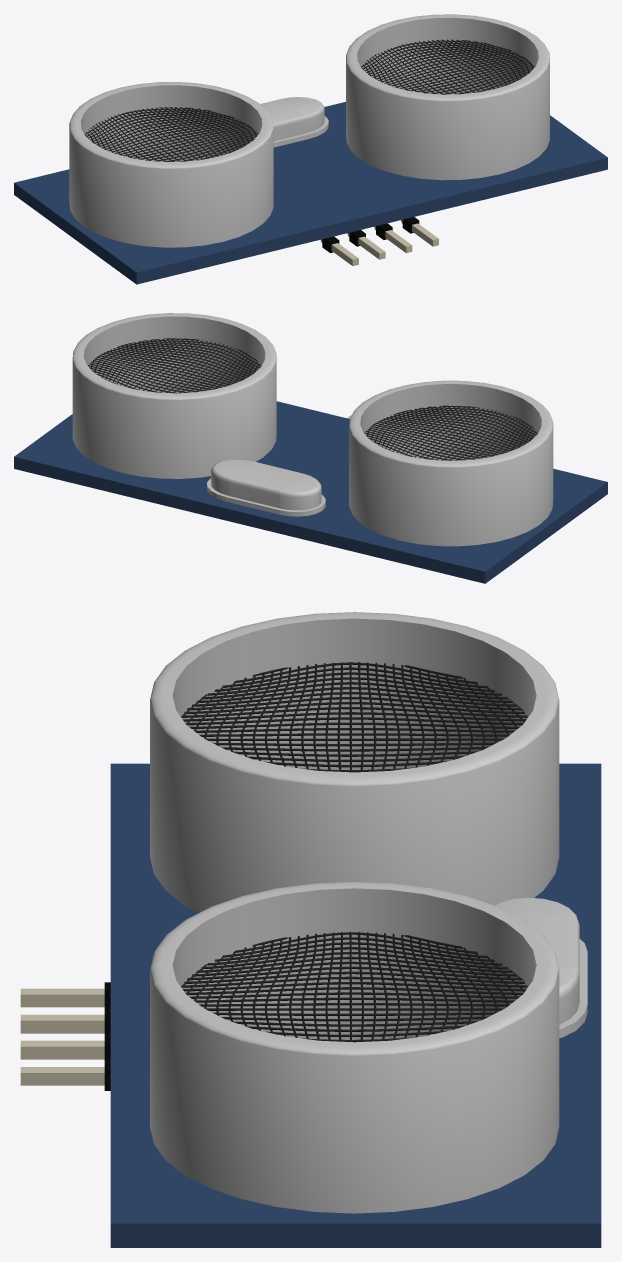
Rendered from HC-SR04 Ultrasonic Distance Sensor.fbx.
The picture shows the model from 3 angles, top to bottom: view 1: azimuth 30°, elevation 25°; view 2: azimuth 150°, elevation 25°; view 3: azimuth 270°, elevation 25°; orthographic projection. The views are drawn at different scales.
Parts seen in each view (by area): view 1: HC-SR04; view 2: HC-SR04; view 3: HC-SR04.
Boxes of the visible parts, bbox=[...] form: HC-SR04: bbox=[14, 14, 607, 284]; HC-SR04: bbox=[14, 313, 607, 583]; HC-SR04: bbox=[20, 612, 601, 1247].
Size of the model in its own units: 1117 by 243 by 596.
